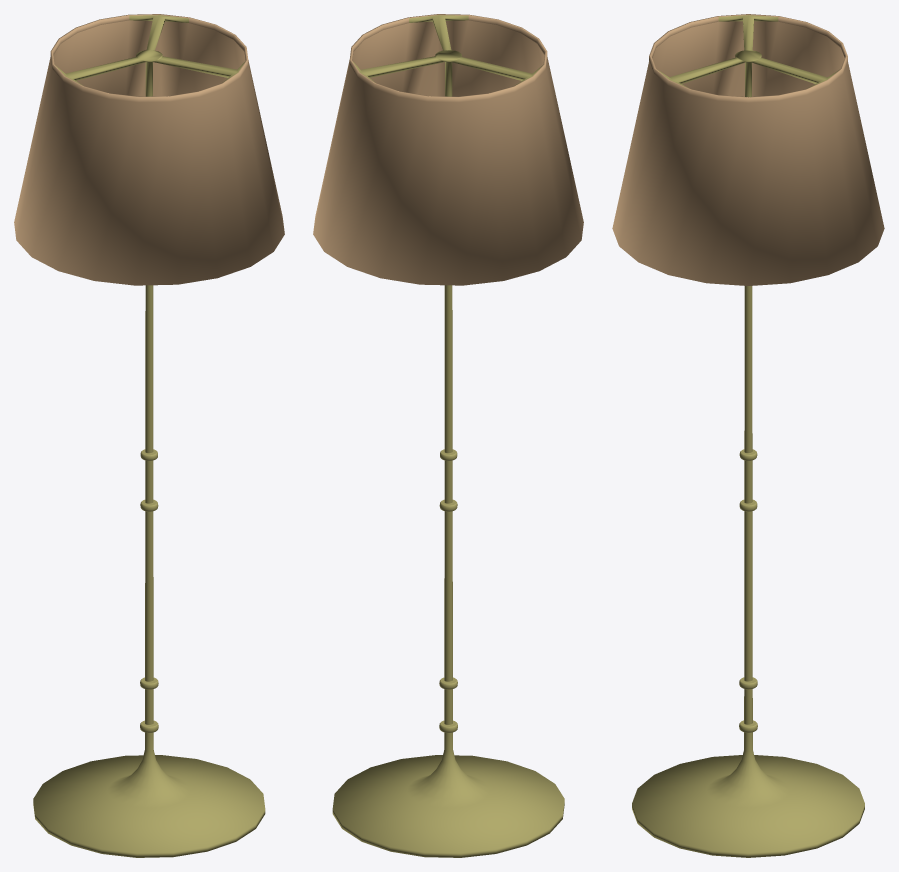
The model's file is lamp.glb.
The picture shows the model from 3 angles, left to right: view 1: azimuth 30°, elevation 25°; view 2: azimuth 150°, elevation 25°; view 3: azimuth 270°, elevation 25°; orthographic projection.
Visible parts, largest first — view 1: Cylinder; view 2: Cylinder; view 3: Cylinder.
Part boxes in pixels (x1,y1,x2,y2): Cylinder: [14, 14, 284, 857]; Cylinder: [313, 14, 583, 857]; Cylinder: [612, 14, 884, 857].
Bounding box in the file's own units: 0.584 × 1.78 × 0.584.
